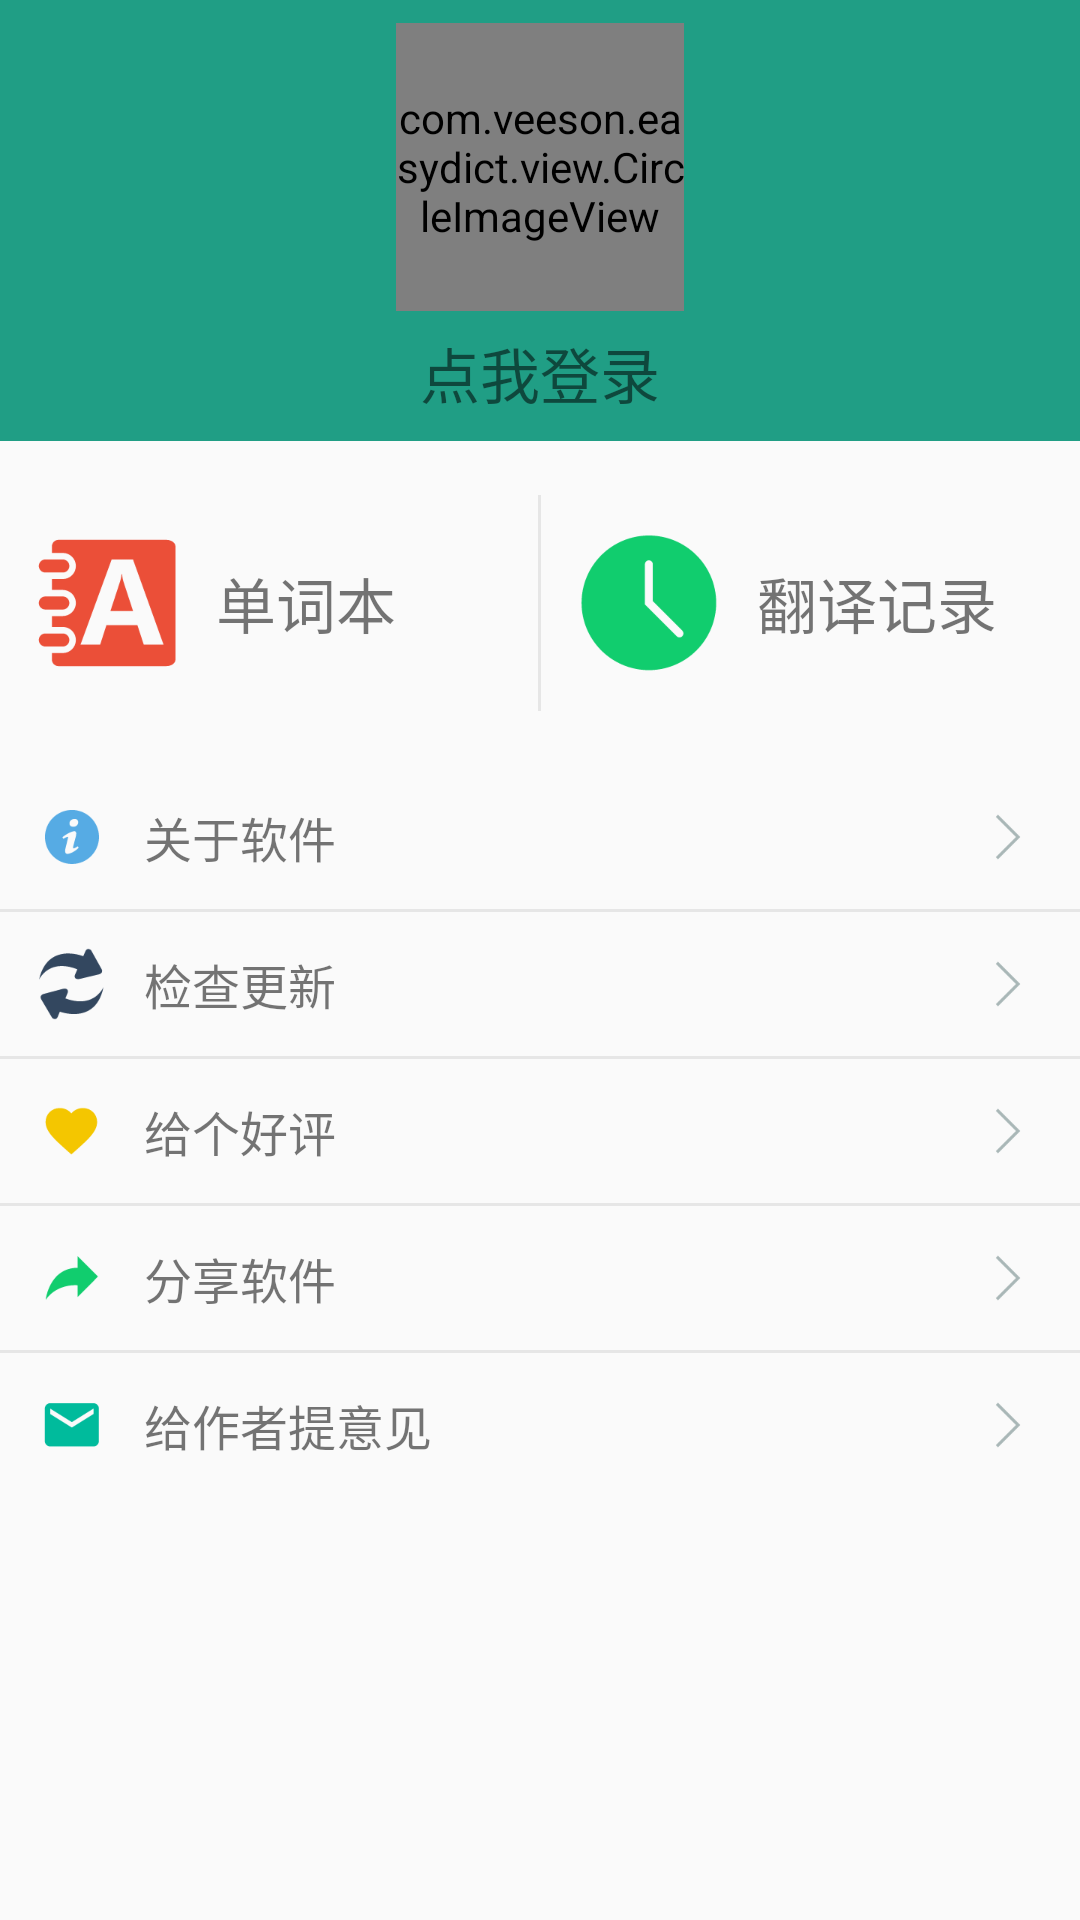

Screen size 1080px×1920px. Icon name, then its box in pixels as (x1, y1, x2, y2):
right: (996, 815, 1020, 859), (996, 962, 1020, 1006), (996, 1109, 1020, 1153), (996, 1256, 1020, 1300), (996, 1403, 1020, 1447)
